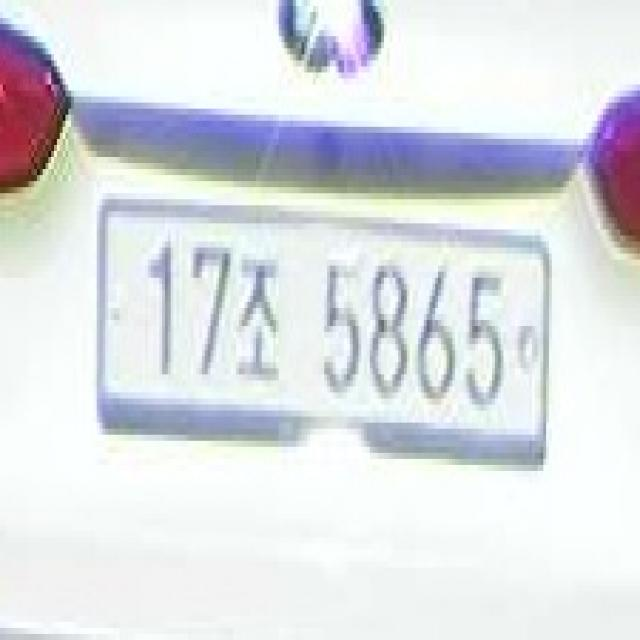1: (140, 224, 180, 398)
5: (461, 253, 509, 422), (322, 242, 362, 404)
6: (412, 254, 458, 411)
7: (188, 230, 233, 398)
8: (364, 242, 413, 416)
jo: (233, 242, 282, 398)
license_plate: (89, 187, 560, 495)
